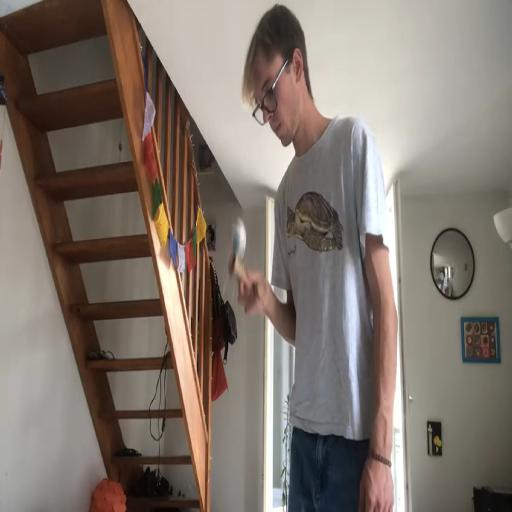kendama_ball: (232, 218, 246, 262)
